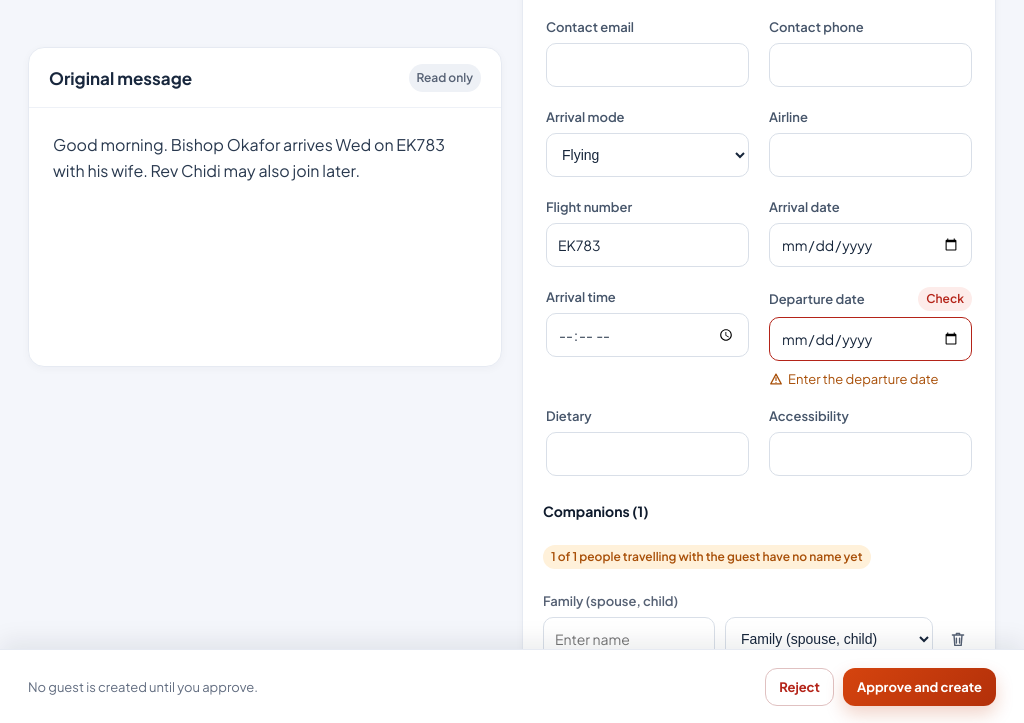
Test: ReviewScreen › approves the corrected form with the chosen VIP category
(page scrolled)
Expected: the text "Good morning. Bishop Okafor arrives Wed on EK783 with his wife. Rev Chidi may also join later." is shown, [53, 134, 448, 181]
In the date field labelled "Departure date Check": (870, 339) [769, 317, 972, 361], type "2026-10-31"
(page scrolled)
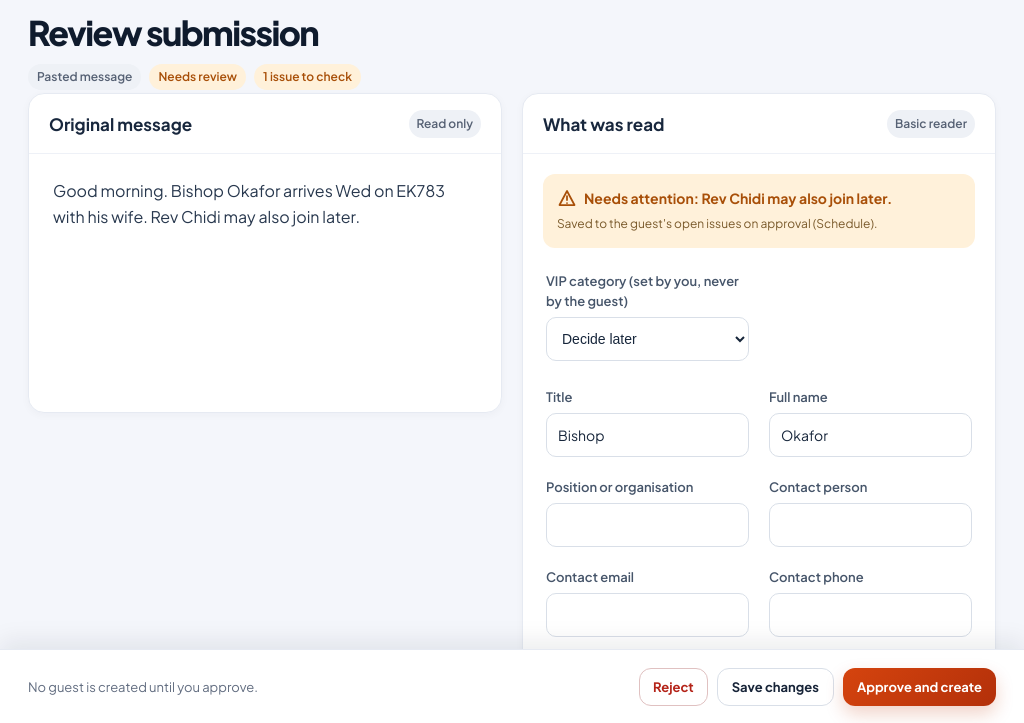
Select "Clergy / Executive" in the dropdown labelled "VIP category (set by you, never by the guest)": (648, 339) [546, 317, 749, 361]
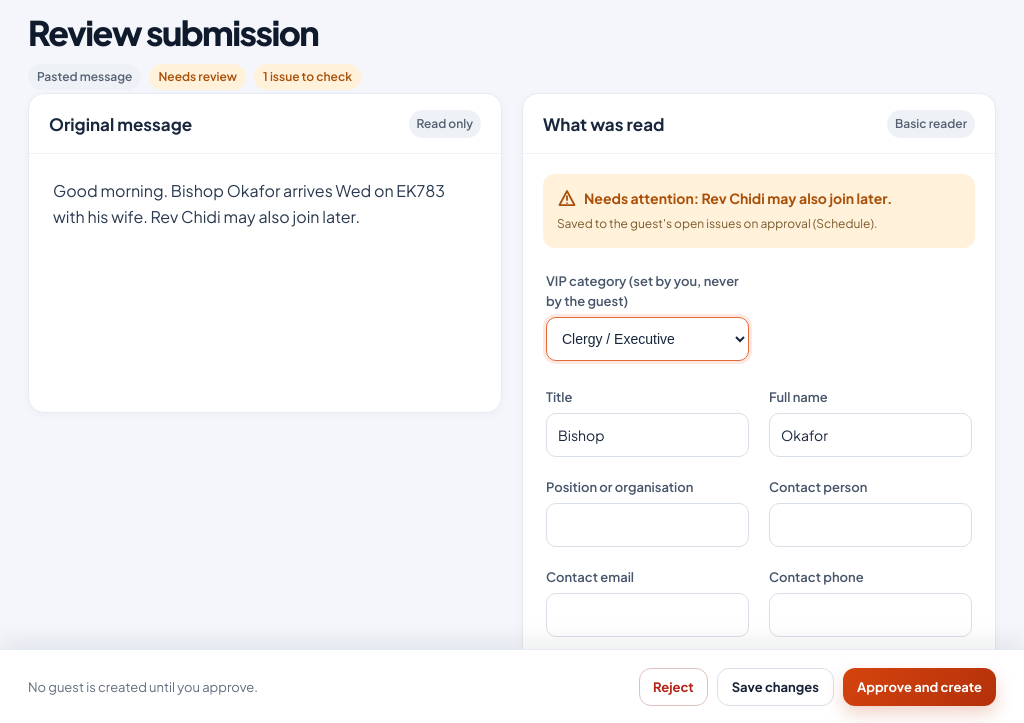
Click the button "Approve and create": (919, 686) [843, 668, 996, 706]
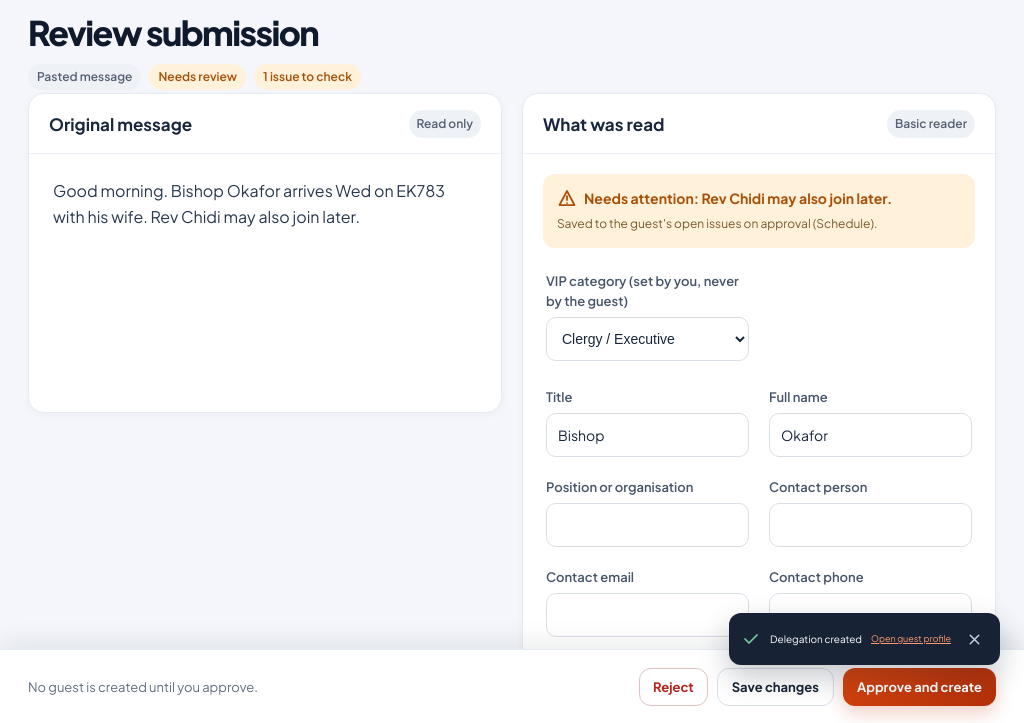
Result: the text "Delegation created" is shown at [770, 629, 862, 649]
